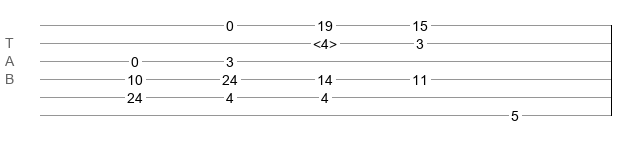0: (131, 54, 139, 64), (226, 18, 234, 28)
10: (127, 72, 143, 82)
11: (412, 72, 428, 82)
14: (317, 72, 333, 82)
15: (412, 18, 428, 28)
19: (317, 18, 333, 28)
24: (127, 90, 143, 100), (222, 72, 238, 82)
3: (226, 54, 234, 64), (416, 36, 424, 46)
4: (226, 90, 234, 100), (321, 90, 329, 100)
5: (511, 108, 519, 118)
harmonic: (313, 36, 337, 46)
